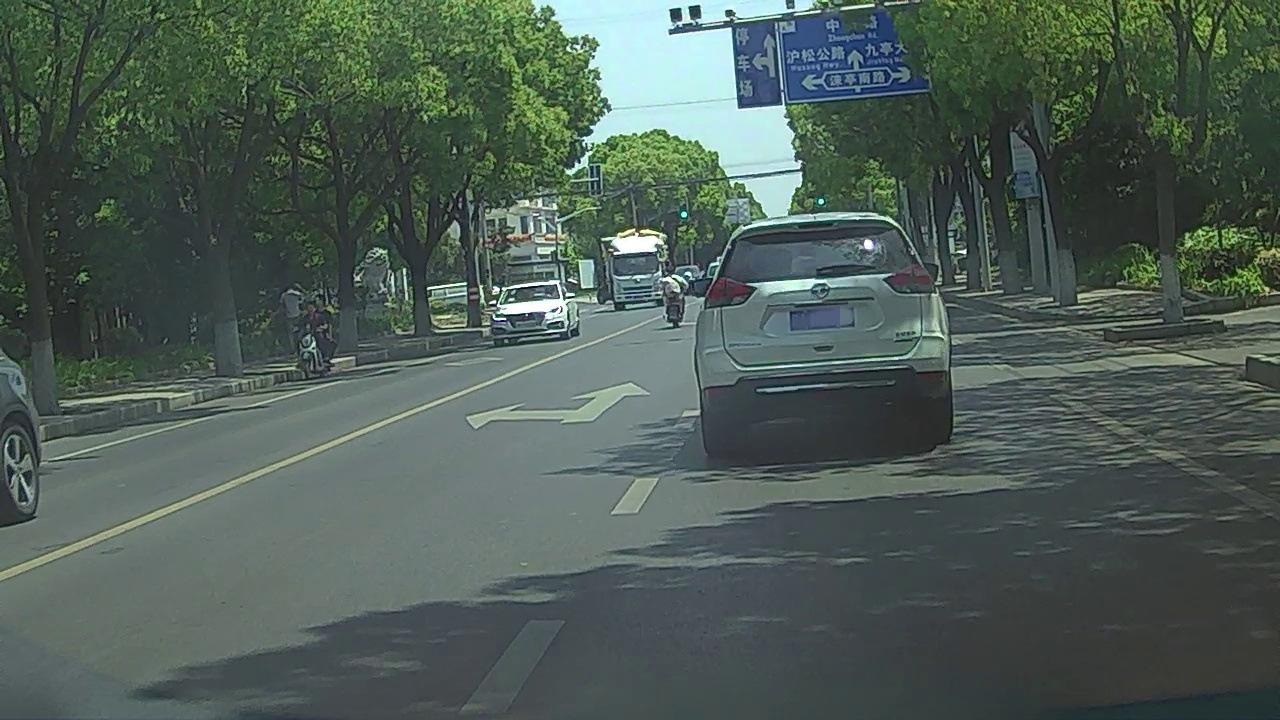traffic_light: (679, 197, 688, 219), (817, 197, 825, 206)
